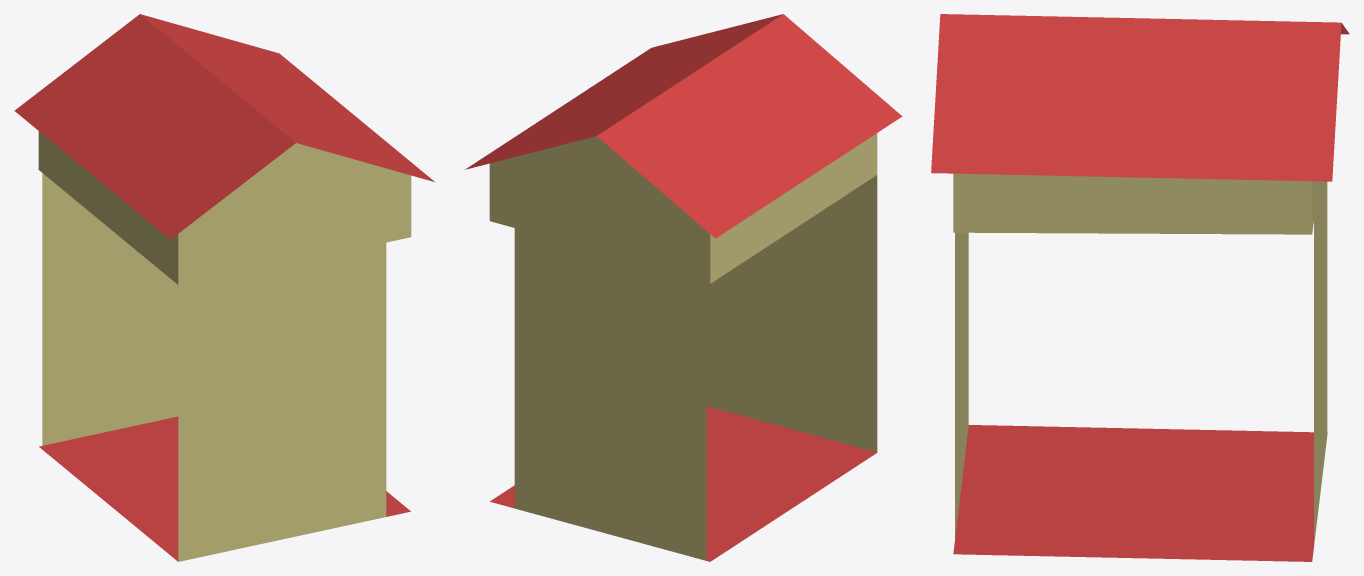
3 views of the same model, side by side, from view 1: azimuth 30°, elevation 25°; view 2: azimuth 150°, elevation 25°; view 3: azimuth 270°, elevation 25° (orthographic). The views are drawn at different scales.
Parts seen in each view (by area): view 1: group_5, group_3, group_6, group_4; view 2: group_5, group_3, group_6, group_4; view 3: group_3, group_6, group_5, group_4.
Boxes of the visible parts, left/top/right/bottom form: group_5: left=38, top=131, right=411, bottom=561; group_3: left=14, top=14, right=410, bottom=223; group_6: left=39, top=416, right=410, bottom=561; group_4: left=16, top=14, right=434, bottom=239; group_5: left=489, top=133, right=877, bottom=560; group_3: left=465, top=14, right=876, bottom=238; group_6: left=490, top=406, right=876, bottom=561; group_4: left=468, top=14, right=902, bottom=237; group_3: left=933, top=14, right=1341, bottom=181; group_6: left=953, top=425, right=1327, bottom=561; group_5: left=953, top=173, right=1327, bottom=545; group_4: left=931, top=14, right=1349, bottom=181.
Bounding box in the file's own units: 13.05 × 14.82 × 18.39.
